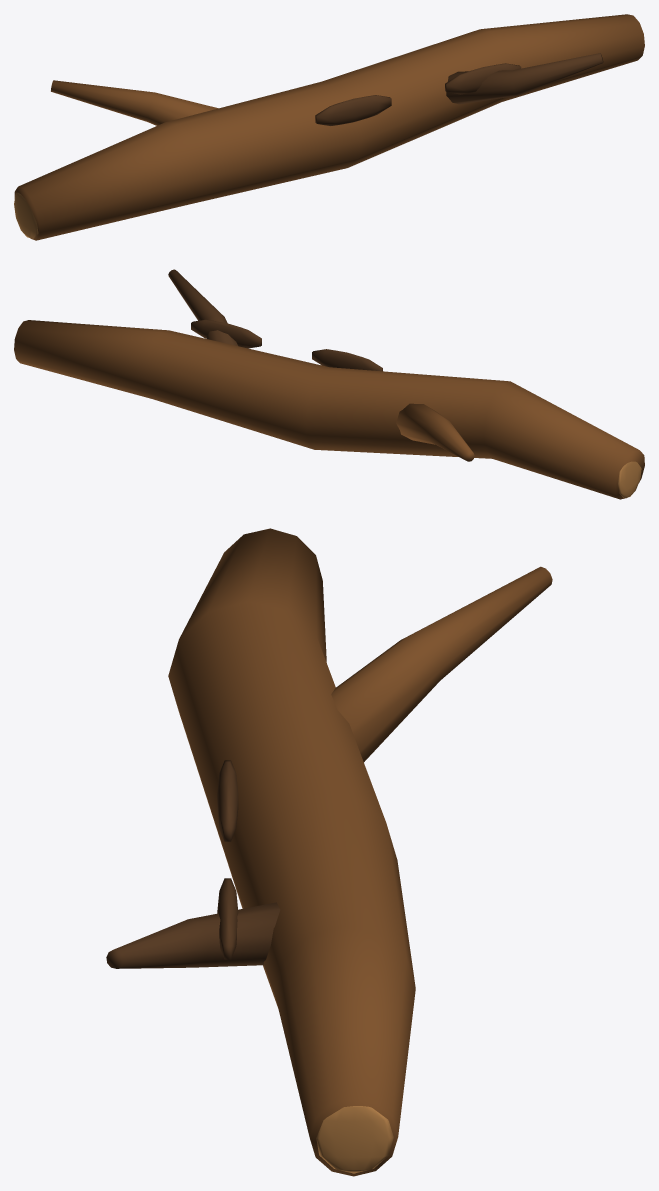
The model's file is lvl02_environment_floating_branch_lite_v01.glb.
3 views of the same model, one above another, from view 1: azimuth 30°, elevation 25°; view 2: azimuth 150°, elevation 25°; view 3: azimuth 270°, elevation 25° (orthographic). The views are drawn at different scales.
Visible parts, largest first — view 1: branch_main, branch_fork_a, branch_fork_b, bark_band_1, bark_band_2, cut_end_left; view 2: branch_main, branch_fork_a, branch_fork_b, bark_band_2, bark_band_1, cut_end_left; view 3: branch_main, branch_fork_a, branch_fork_b, cut_end_right, bark_band_1, bark_band_2.
Part boxes in pixels (x1,y1,x2,y2): branch_main: (14,14,644,240); branch_fork_a: (51,80,218,125); branch_fork_b: (446,53,603,104); bark_band_1: (315,95,391,125); bark_band_2: (445,63,521,94); cut_end_left: (14,192,38,238); branch_main: (14,320,644,499); branch_fork_a: (396,403,474,461); branch_fork_b: (168,269,237,345); bark_band_2: (191,319,261,348); bark_band_1: (312,349,382,371); cut_end_left: (618,461,641,498); branch_main: (168,528,415,1176); branch_fork_a: (331,566,552,761); branch_fork_b: (106,902,280,968); cut_end_right: (316,1106,393,1173); bark_band_1: (217,760,238,841); bark_band_2: (217,878,238,959).
Size of the model in its own units: 3.08 by 0.46 by 1.01.
